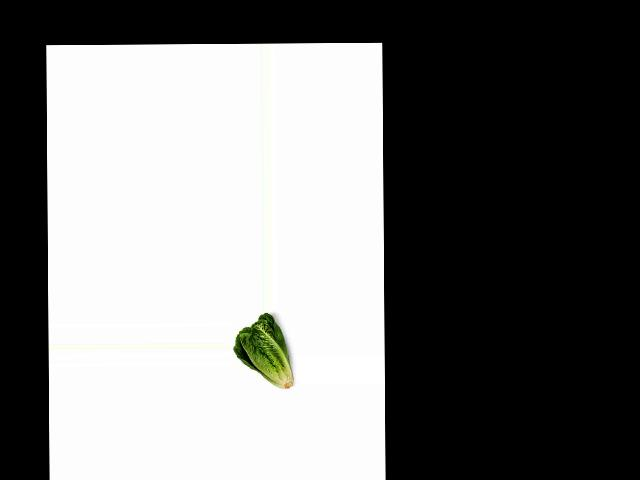lettuce: (233, 313, 294, 390)
